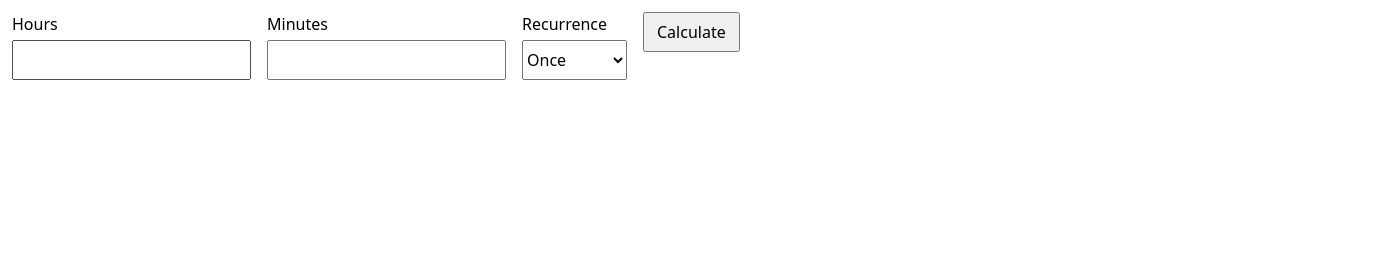
Test: DurationCalculator › treats an empty hours or minutes field as 0
Clear the field labelled "Hours" at {"x": 132, "y": 60}, box x1=12 y1=40 x2=251 y2=80
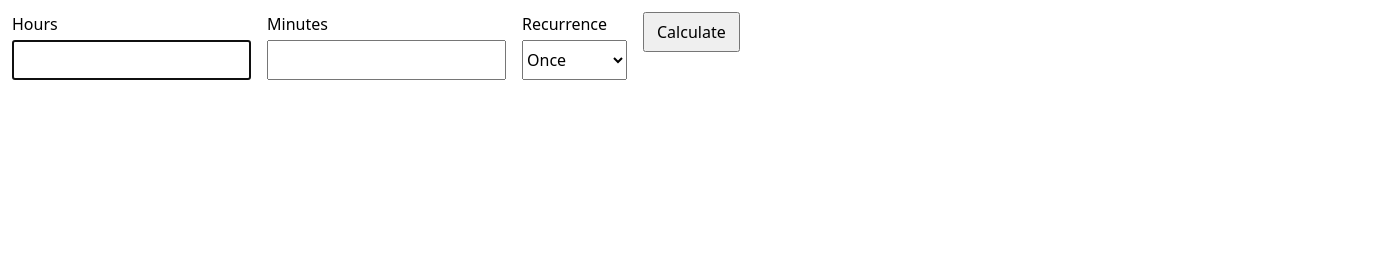
Type "30" into the field labelled "Minutes" at {"x": 386, "y": 60}, box x1=267 y1=40 x2=506 y2=80
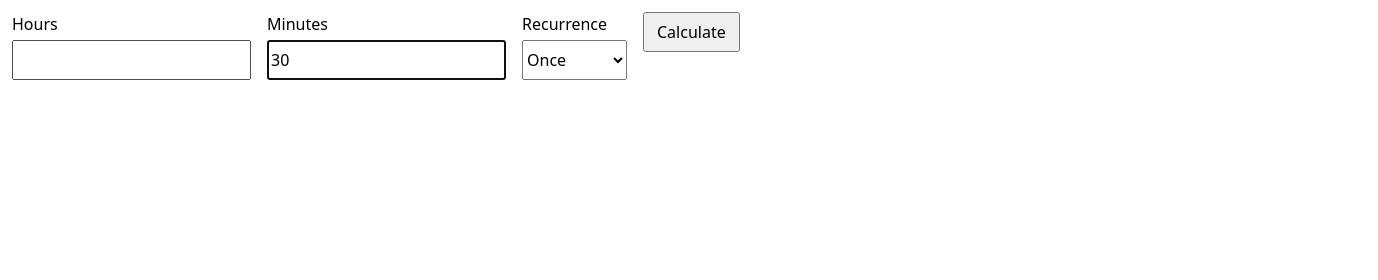
Click the button "Calculate" at {"x": 691, "y": 32}, box x1=643 y1=12 x2=740 y2=52
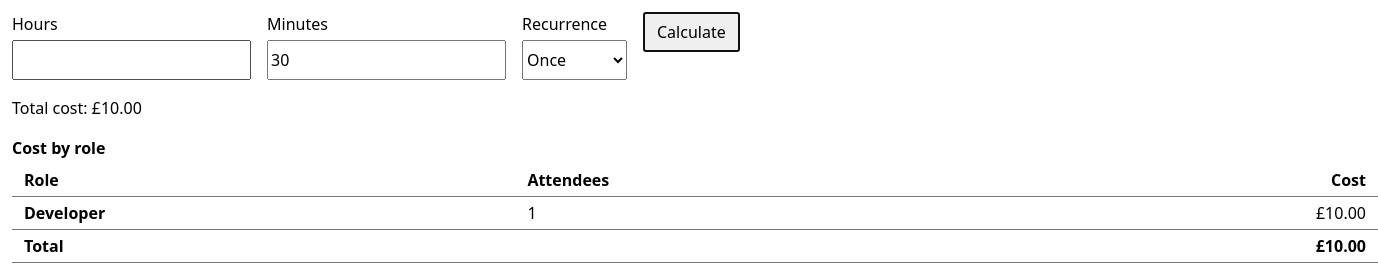
expect the text "Total cost: £10.00" is shown: met, box x1=12 y1=97 x2=142 y2=119
